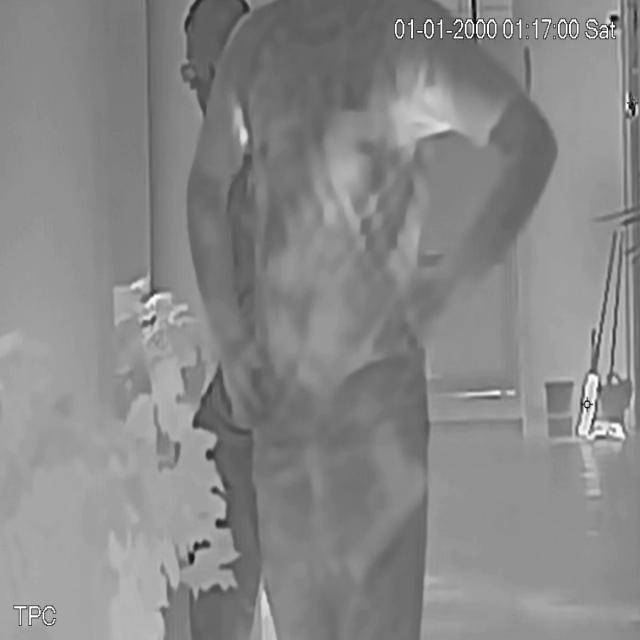Weapon: (320, 412, 437, 580)
